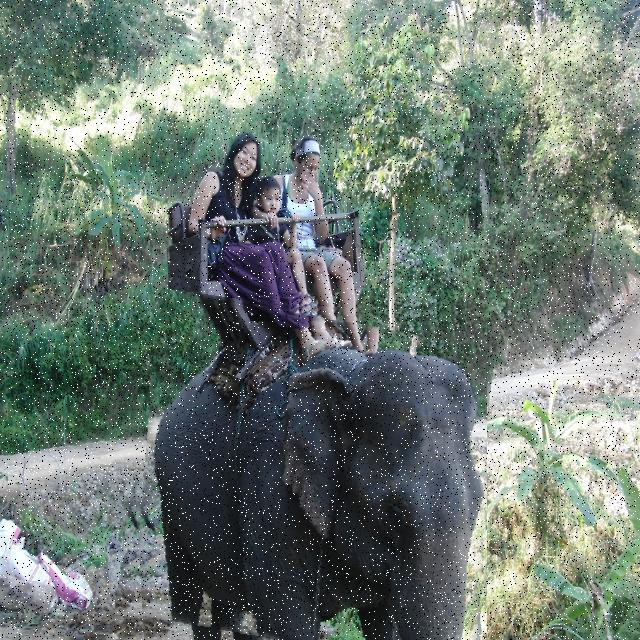elephant: (124, 299, 487, 640)
